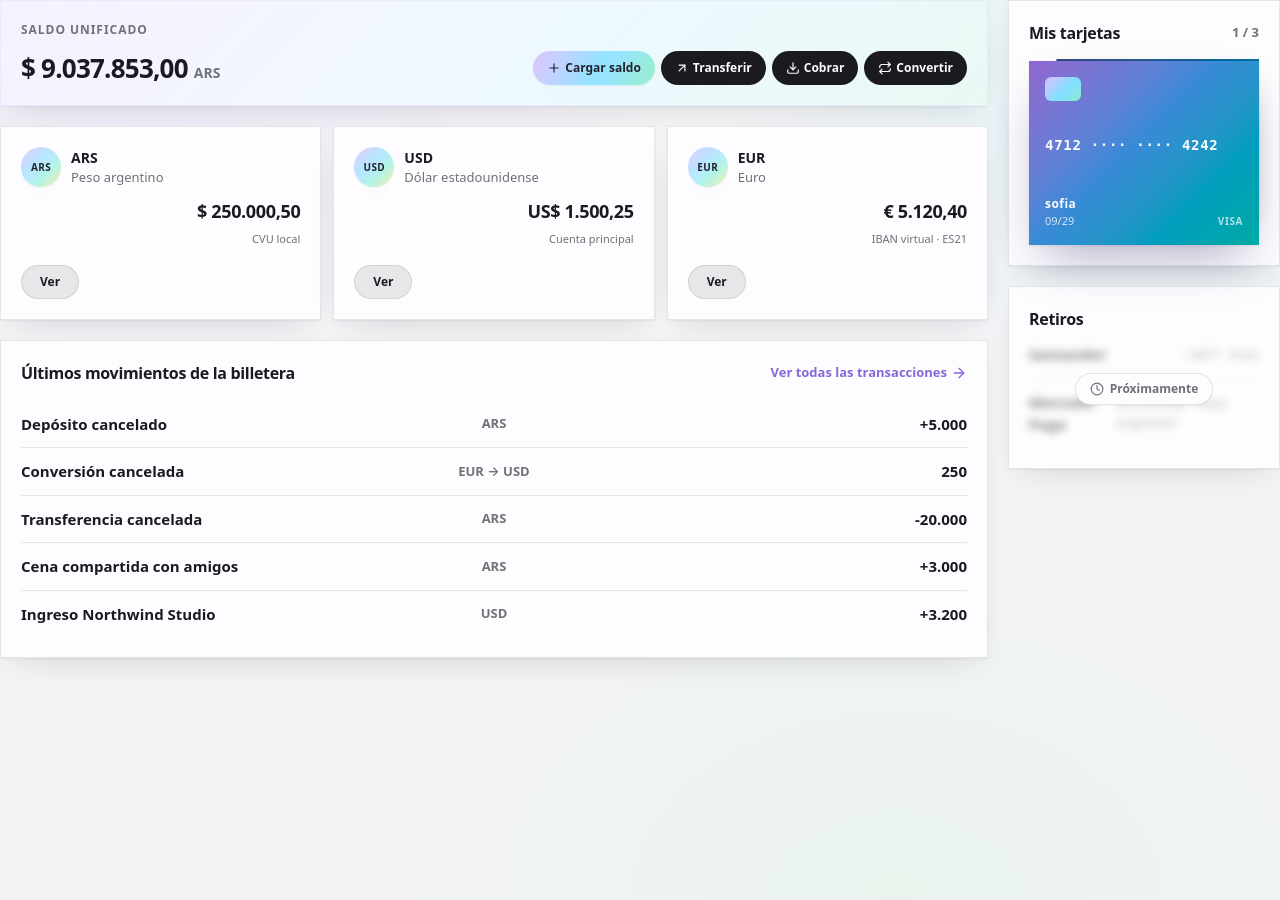
it: WalletSummary — límites de depósito › red de seguridad: si el backend rechaza por límite, mantiene el modal abierto y enfoca el monto
Click the button "Cargar saldo": (594, 68) 533,51 -> 655,85
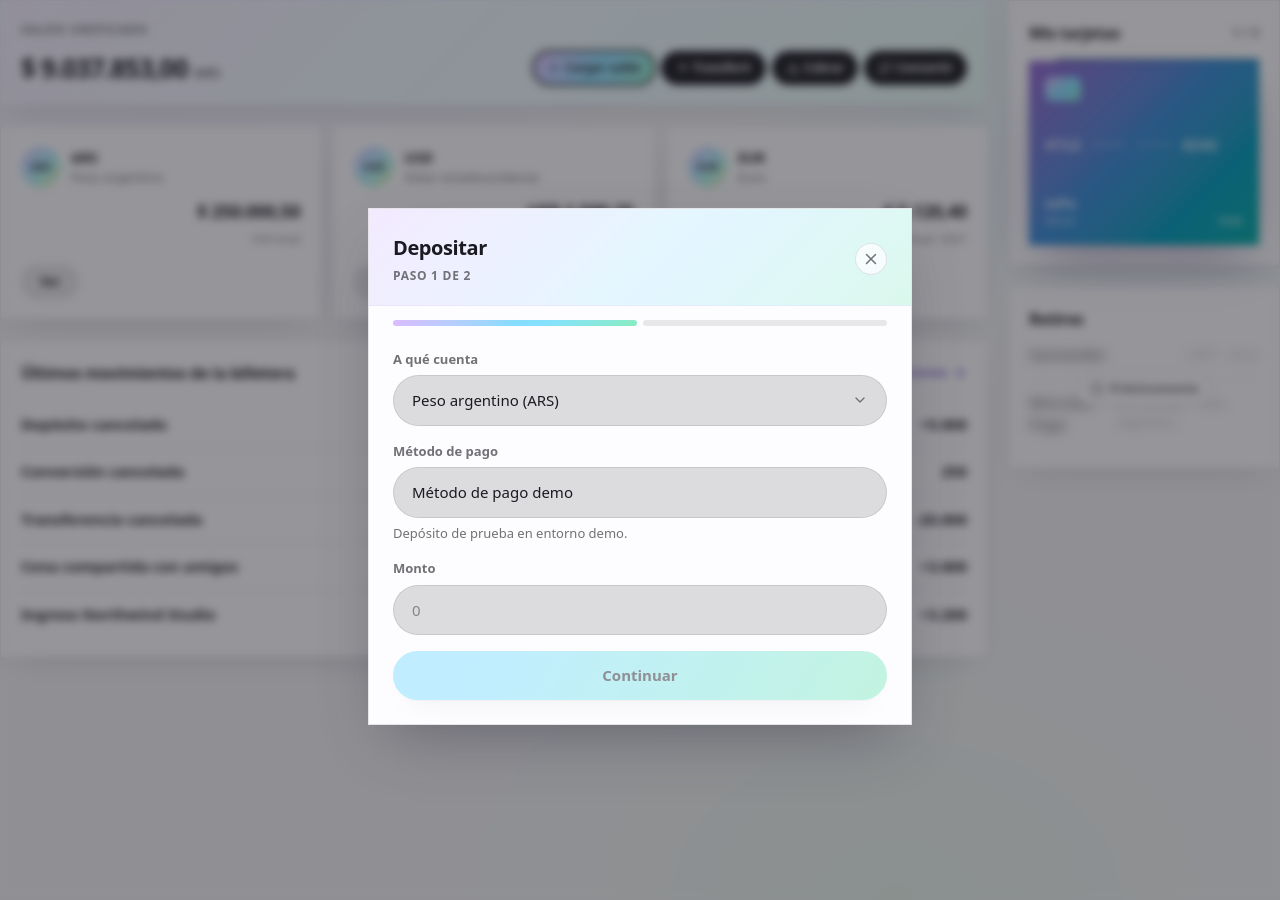
In the number field labelled "Monto": (640, 610) 393,584 -> 887,635, type "5000"
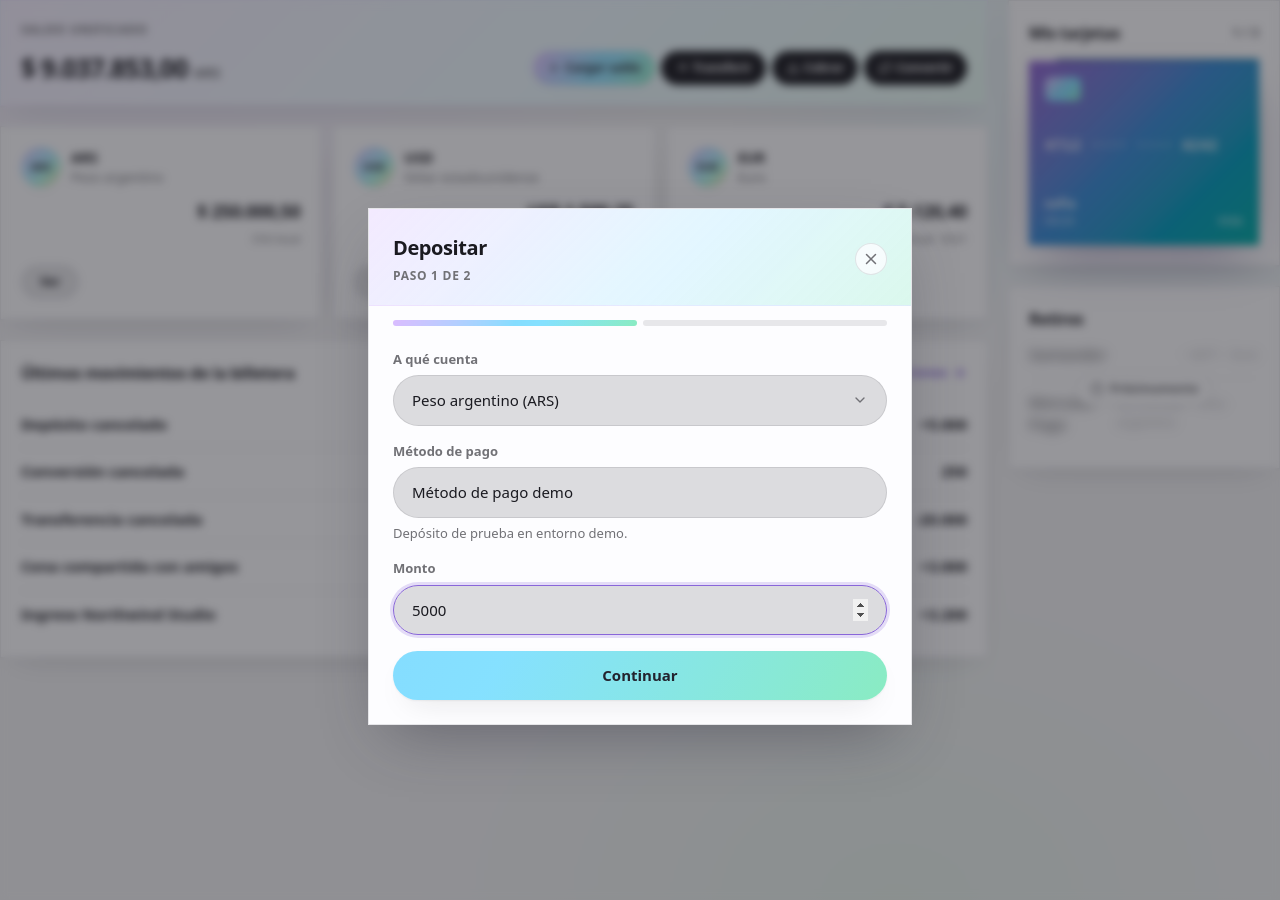
Click the button "Continuar": (640, 675) 393,651 -> 887,700
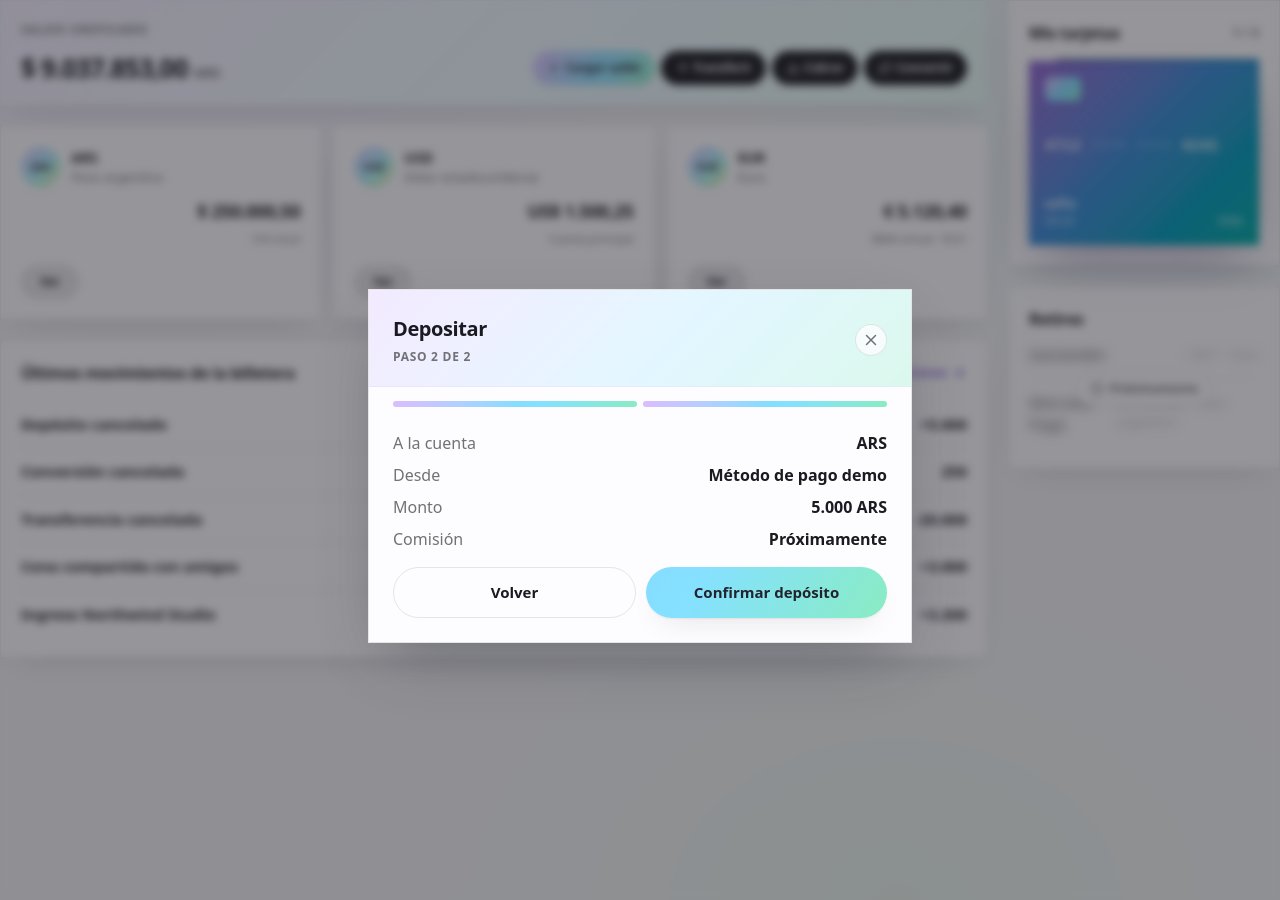
Click the button "Confirmar depósito": (766, 593) 646,567 -> 887,618
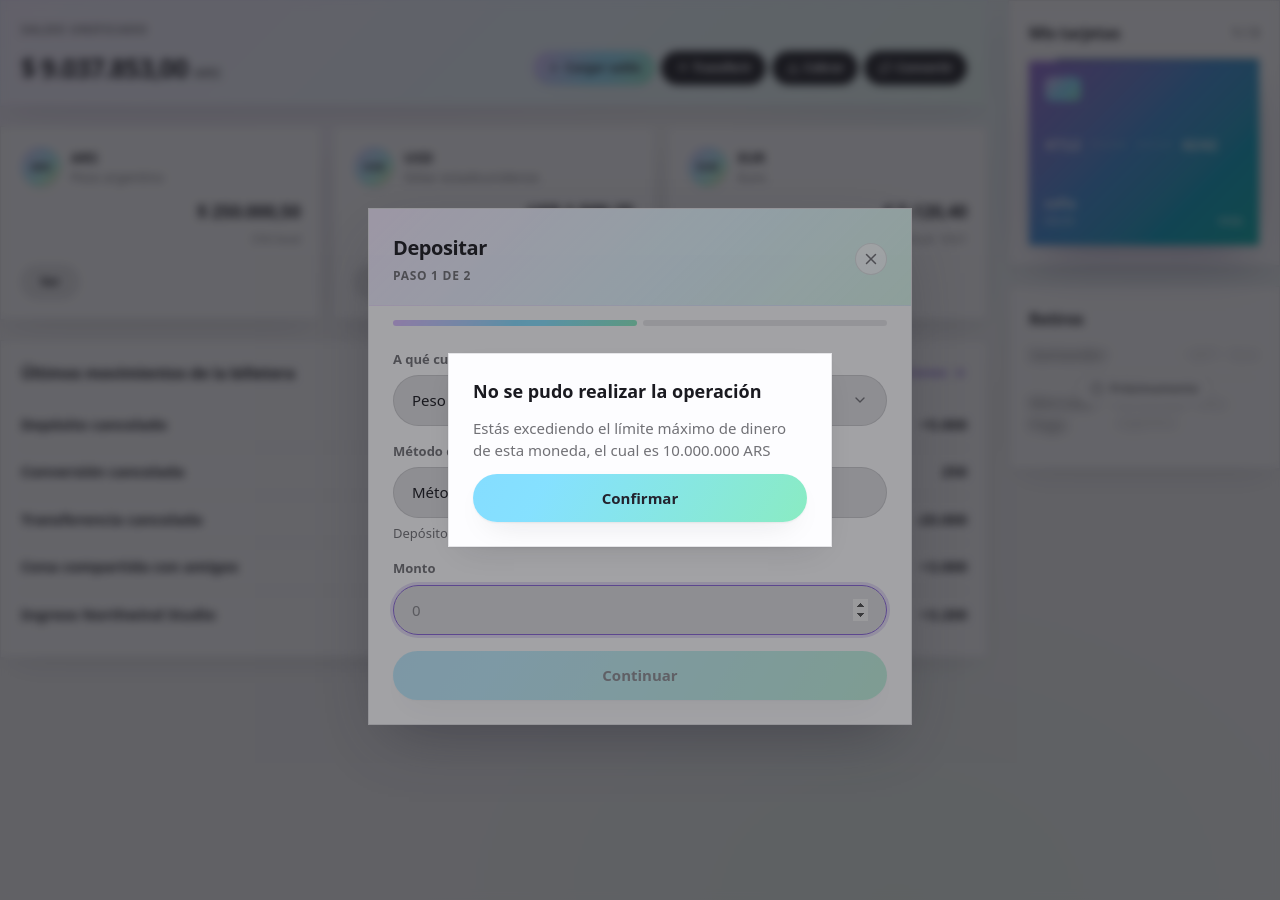
Now the text "Estás excediendo el límite máximo de dinero de esta moneda, el cual es 10.000.000 ARS" is shown, box 473,418 -> 786,460
Now the number field labelled "Monto" is shown, box 393,584 -> 887,635
Click the button "Confirmar": (640, 498) 473,474 -> 807,522
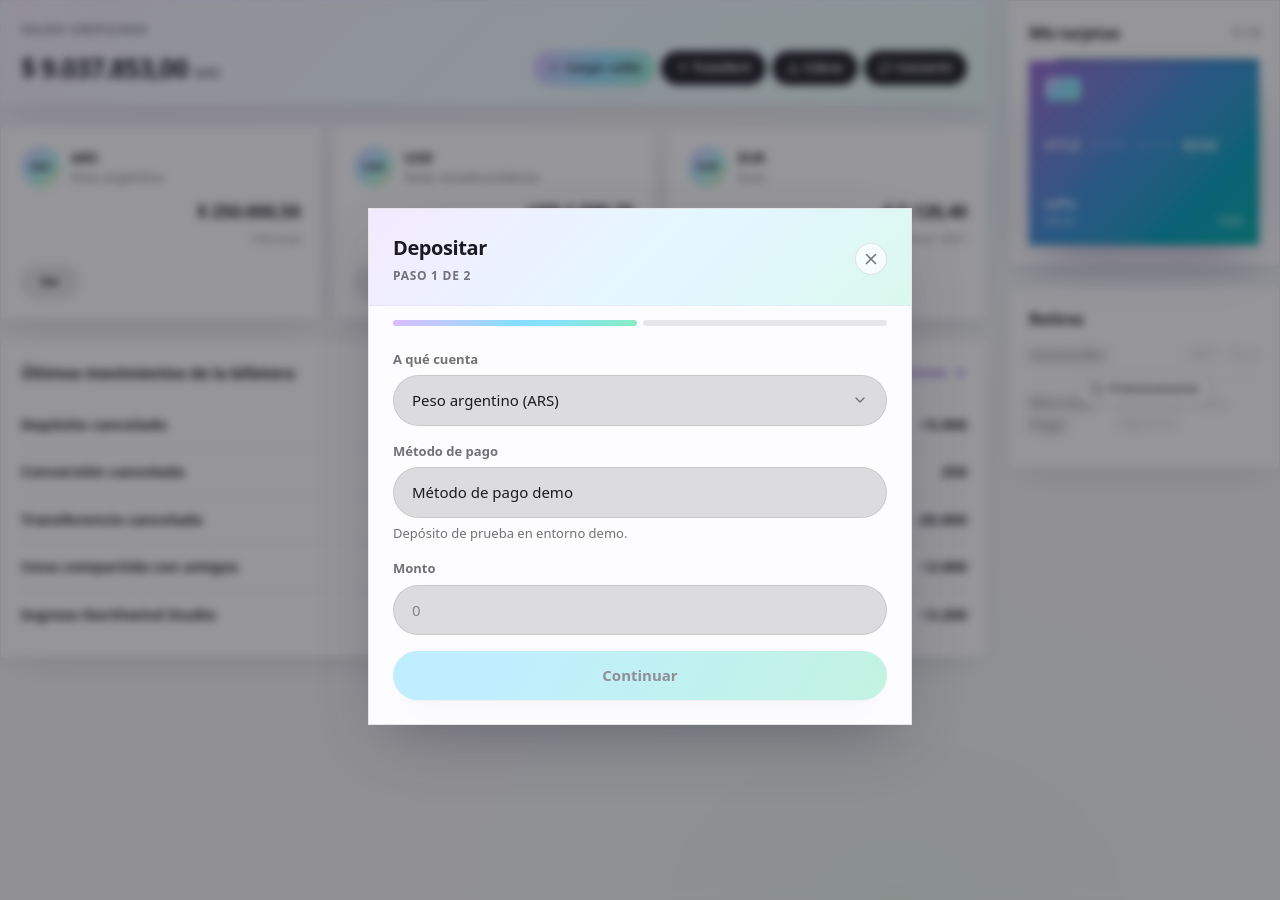
Now the number field labelled "Monto" is shown, box 393,584 -> 887,635
Now the text "Paso 1 de 2" is shown, box 393,266 -> 471,284
Now the text "Estás excediendo el límite máximo de dinero de esta moneda, el cual es 10.000.000 ARS" is gone
